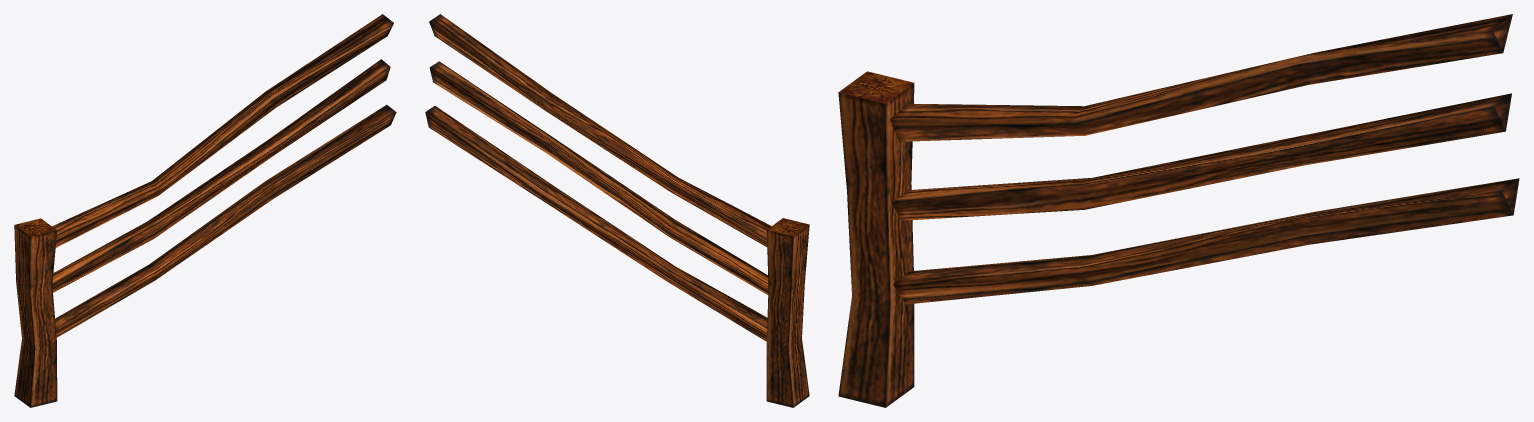
File: INST_HTOWN_FENCEBRN20DEG.fbx
3 renders of one model, left to right at view 1: azimuth 30°, elevation 25°; view 2: azimuth 150°, elevation 25°; view 3: azimuth 330°, elevation 25°, orthographic. The views are drawn at different scales.
Visible parts, largest first — view 1: INST_HTOWN_FENCEBRN20DEG; view 2: INST_HTOWN_FENCEBRN20DEG; view 3: INST_HTOWN_FENCEBRN20DEG.
Boxes of the visible parts, x1=… form: INST_HTOWN_FENCEBRN20DEG: x1=14, y1=14, x2=396, y2=407; INST_HTOWN_FENCEBRN20DEG: x1=425, y1=14, x2=809, y2=407; INST_HTOWN_FENCEBRN20DEG: x1=838, y1=14, x2=1519, y2=407.
Size of the model in its own units: 30236 by 22981 by 2372.
Materials: 2 (2 with a texture image).
